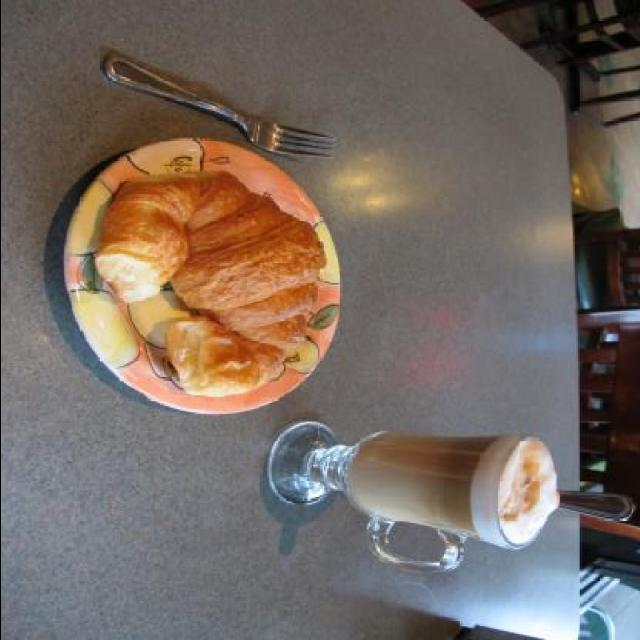Croissant: (89, 167, 318, 399)
